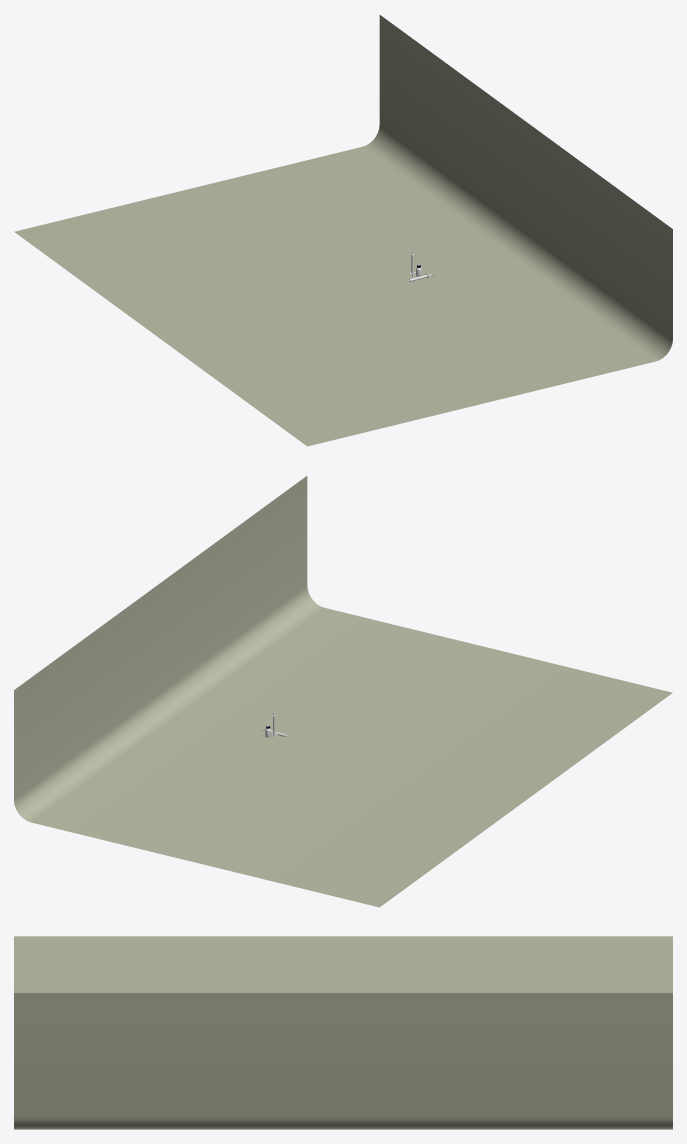
Rendered from uploads_files_6458407_Vial_and_Syringe.fbx.
3 views of the same model, one above another, from view 1: azimuth 30°, elevation 25°; view 2: azimuth 150°, elevation 25°; view 3: azimuth 270°, elevation 25° (orthographic). The views are drawn at different scales.
Visible parts, largest first — view 1: Plano; view 2: Plano; view 3: Plano.
Part boxes in pixels (bbox=[...]): Plano: bbox=[14, 15, 672, 446]; Plano: bbox=[14, 476, 672, 907]; Plano: bbox=[14, 936, 672, 1129].
Bounding box in the file's own units: 2184 × 731 × 3035.
